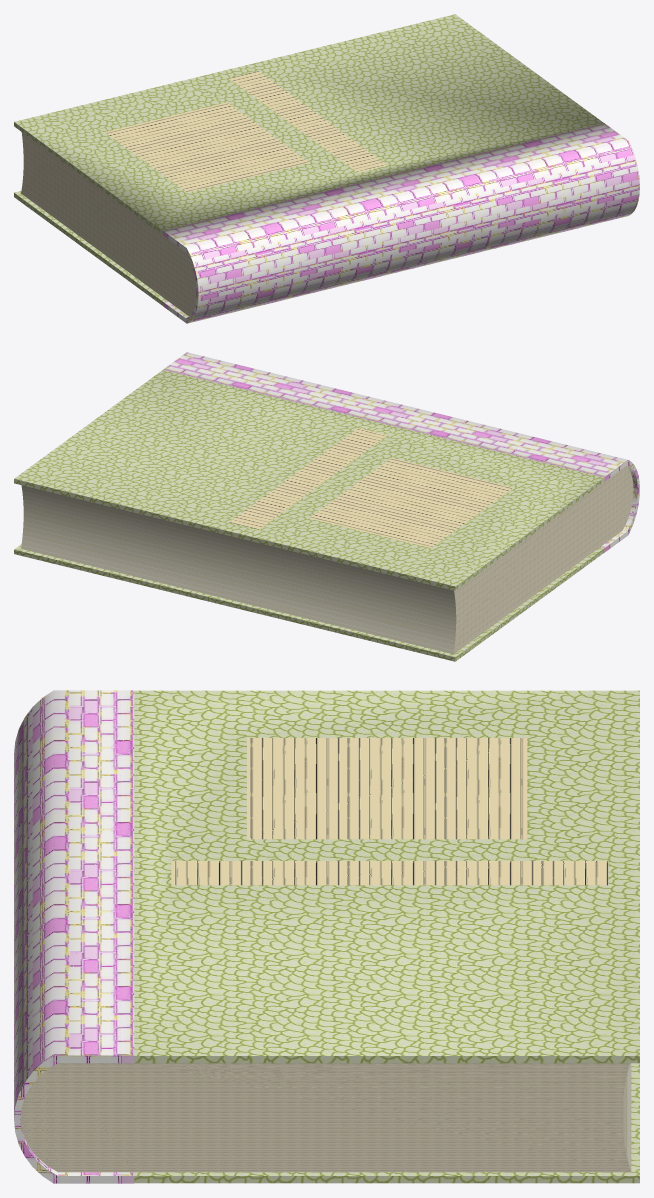
The picture shows the model from 3 angles, top to bottom: view 1: azimuth 30°, elevation 25°; view 2: azimuth 150°, elevation 25°; view 3: azimuth 270°, elevation 25°; orthographic projection. The views are drawn at different scales.
Visible parts, largest first — view 1: SketchUp (×6); view 2: SketchUp (×7); view 3: SketchUp (×7).
Boxes of the visible parts, x1,y1,x2,y2 form: SketchUp (×6): [14, 14, 639, 323]; SketchUp (×7): [14, 352, 639, 661]; SketchUp (×7): [14, 690, 639, 1183].
Size of the model in its own units: 214 by 155 by 35.
Materials: 5 (5 with a texture image).
